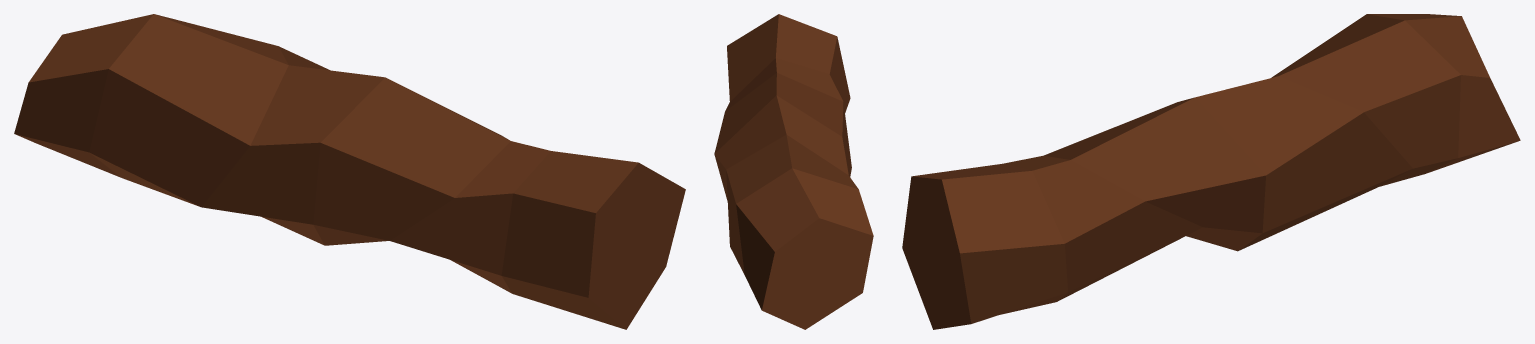
File: Log.fbx
3 renders of one model, left to right at view 1: azimuth 30°, elevation 25°; view 2: azimuth 150°, elevation 25°; view 3: azimuth 270°, elevation 25°, orthographic. The views are drawn at different scales.
Parts seen in each view (by area): view 1: Tronquito2; view 2: Tronquito2; view 3: Tronquito2.
Boxes of the visible parts, <box> form: Tronquito2: <box>14,14,685,329</box>; Tronquito2: <box>714,14,873,329</box>; Tronquito2: <box>902,14,1520,329</box>.
Size of the model in its own units: 85.32 by 38.41 by 110.
